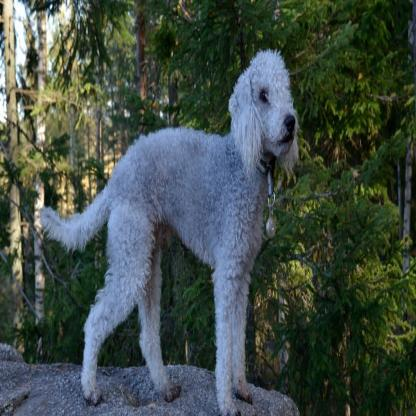Bedlington Terrier: (11, 22, 324, 386)
